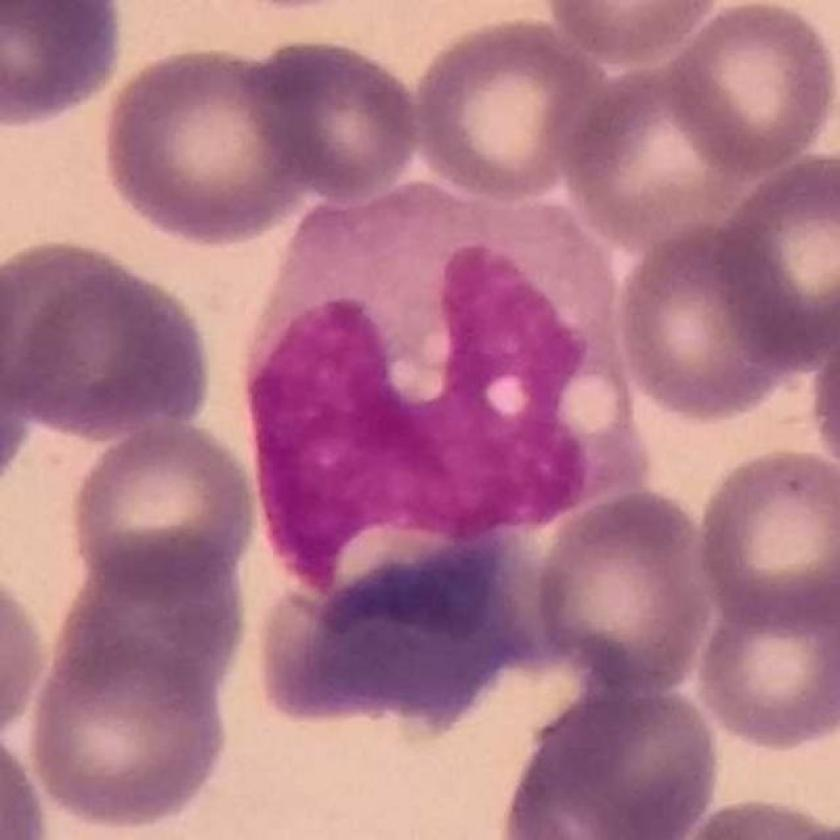monocyte: (240, 172, 683, 638)
